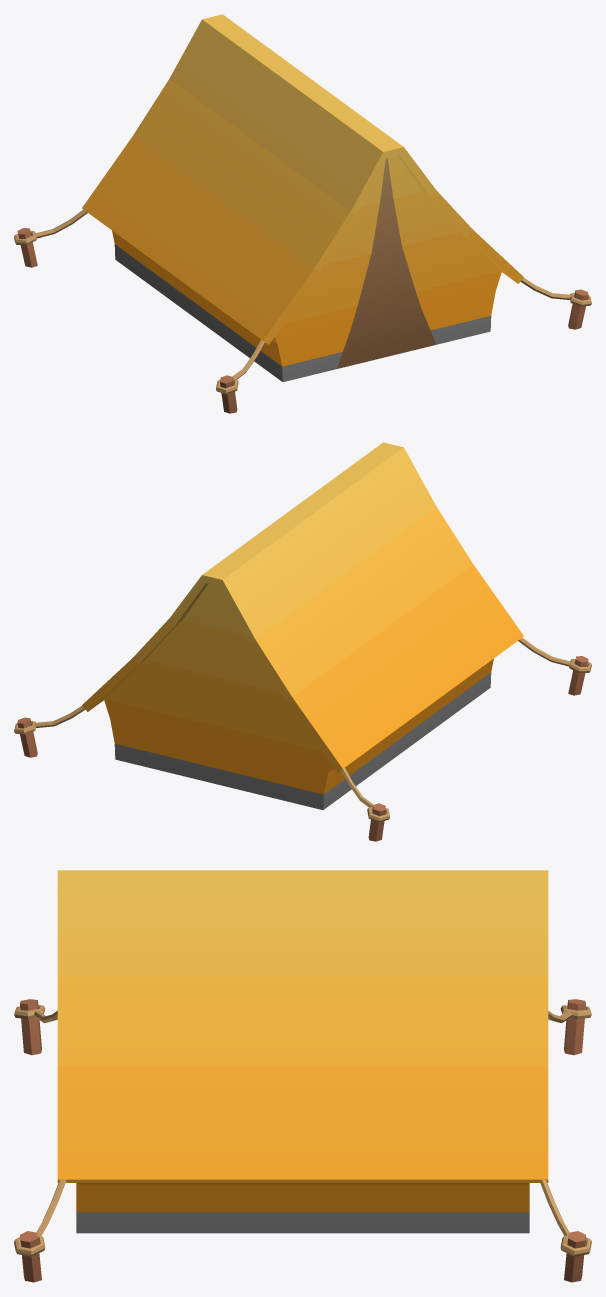
The model's file is camping tent yellow.fbx.
3 renders of one model, top to bottom at view 1: azimuth 30°, elevation 25°; view 2: azimuth 150°, elevation 25°; view 3: azimuth 270°, elevation 25°, orthographic. The views are drawn at different scales.
Parts seen in each view (by area): view 1: camping tent yellow; view 2: camping tent yellow; view 3: camping tent yellow.
Part boxes in pixels (bbox=[...]): camping tent yellow: bbox=[14, 14, 591, 413]; camping tent yellow: bbox=[14, 442, 591, 841]; camping tent yellow: bbox=[14, 870, 591, 1282].
Size of the model in its own units: 474 by 257 by 467.
